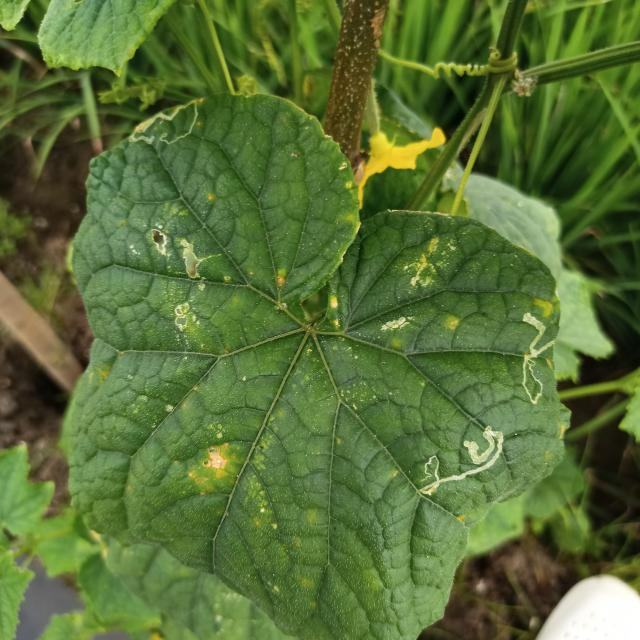disease_cucumber: (140, 222, 211, 343), (398, 234, 455, 295), (176, 437, 237, 494), (374, 308, 419, 337), (535, 293, 559, 321), (329, 296, 346, 328), (272, 272, 289, 292), (554, 418, 568, 442), (444, 315, 460, 331)
